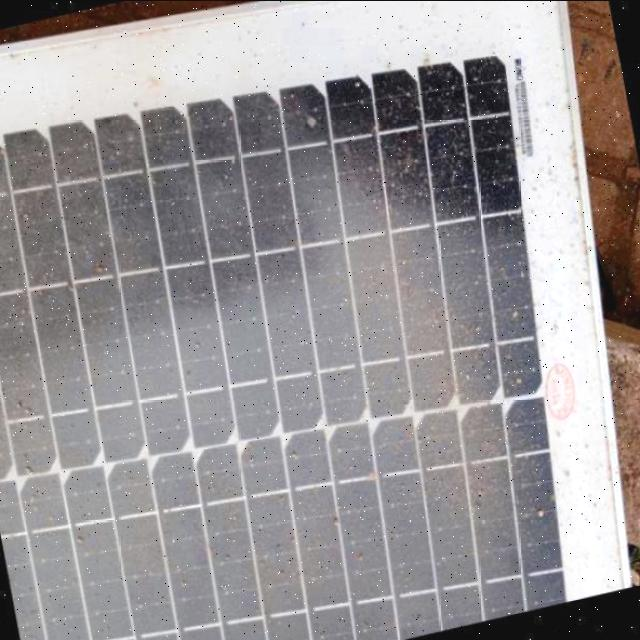Surface Contaminant: (0, 14, 578, 640)
